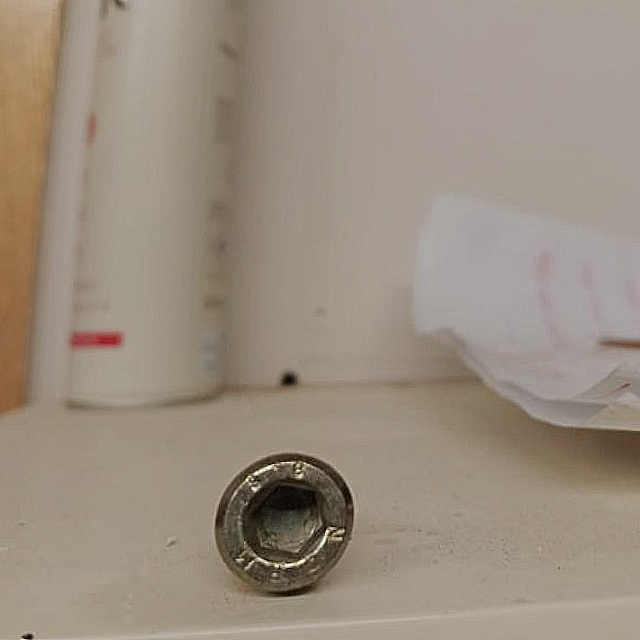allen: (211, 448, 357, 598)
